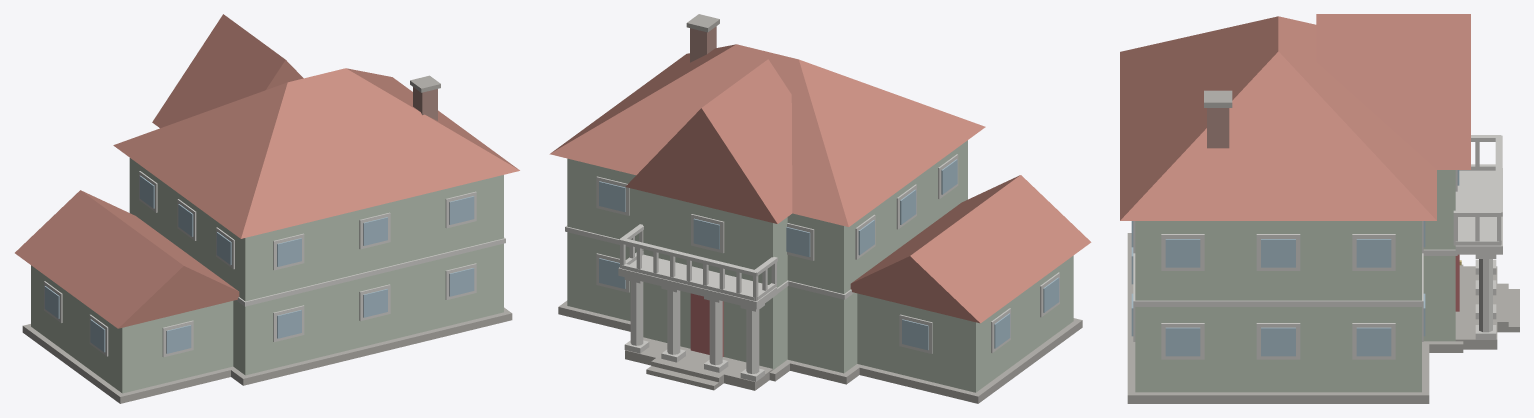
The model's file is casa-n06-abdb4c3a.glb.
3 views of the same model, side by side, from view 1: azimuth 30°, elevation 25°; view 2: azimuth 150°, elevation 25°; view 3: azimuth 270°, elevation 25° (orthographic). The views are drawn at different scales.
Bounding box in the file's own units: 14.8 × 8.75 × 10.6.
